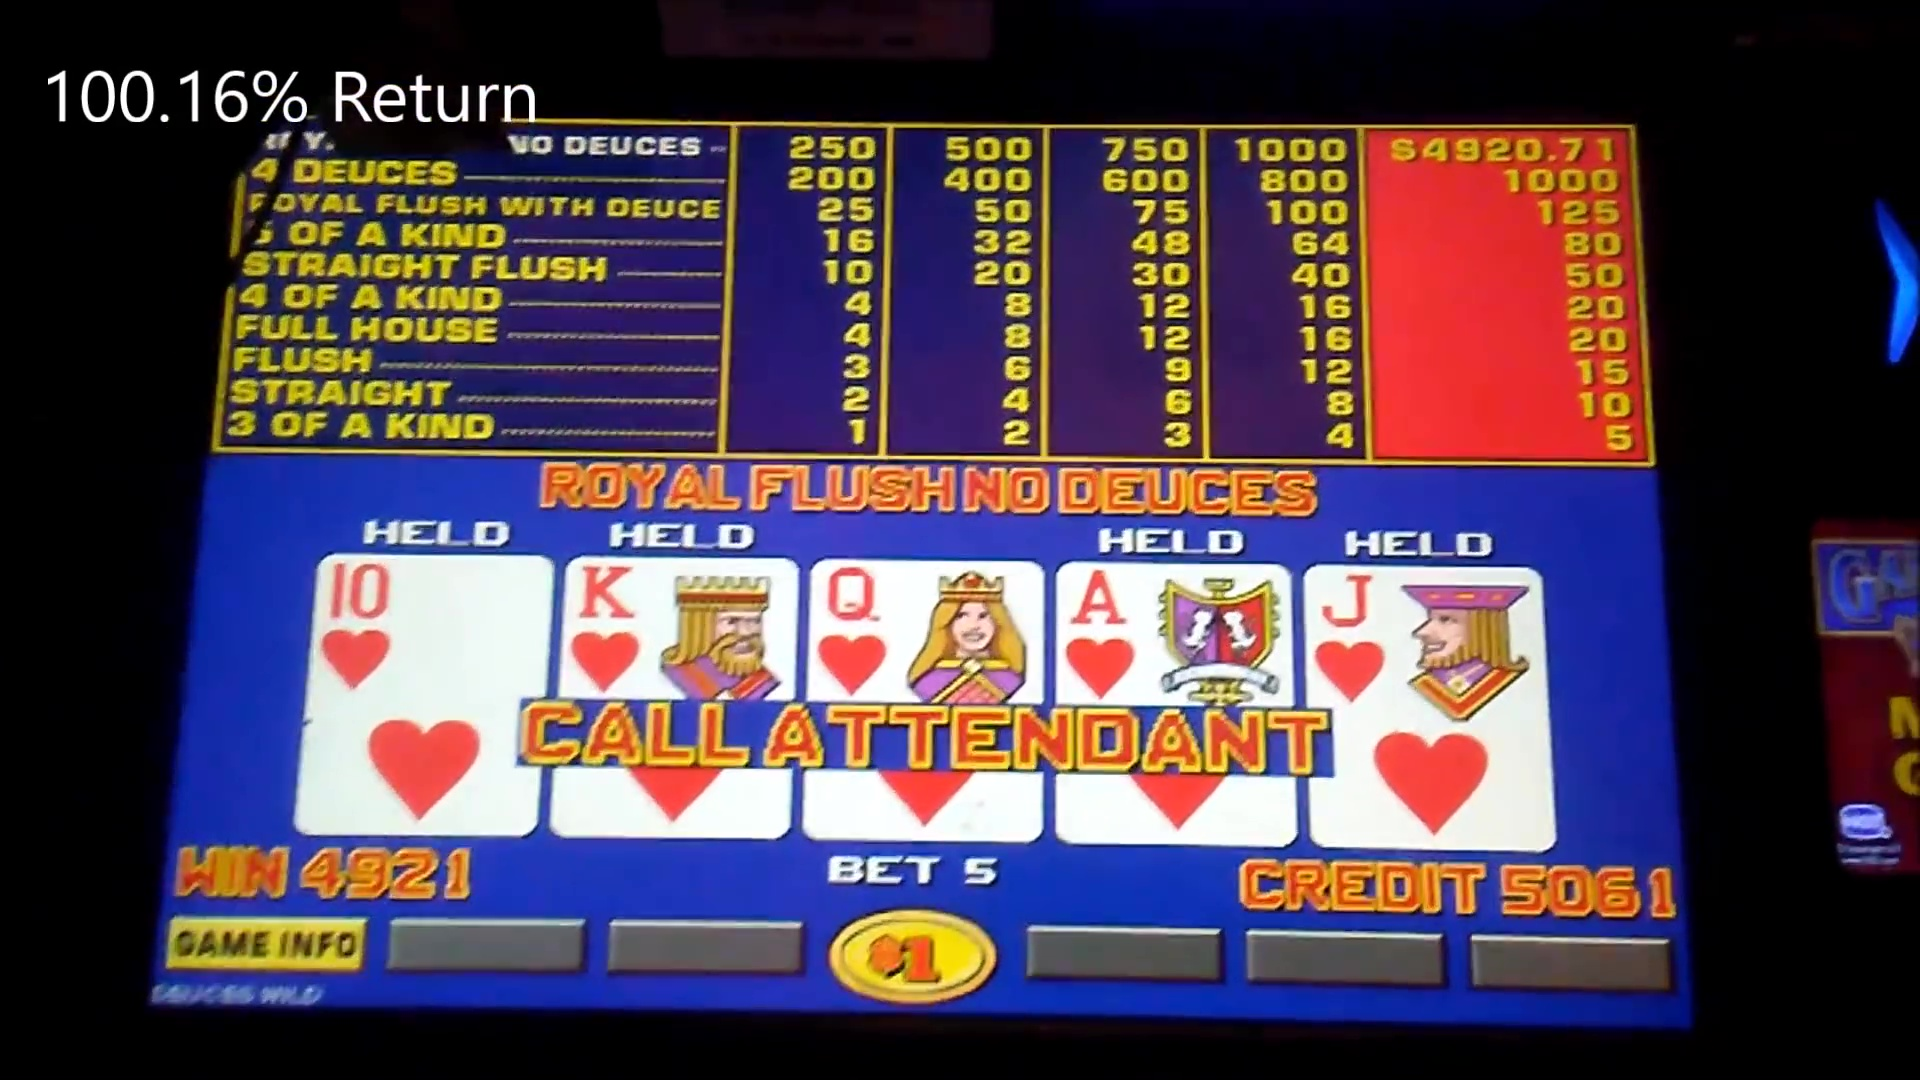HA: (1060, 568, 1292, 700)
HJ: (1304, 571, 1545, 699)
HK: (564, 559, 781, 694)
HQ: (811, 564, 1043, 692)
HT: (320, 554, 535, 696)
